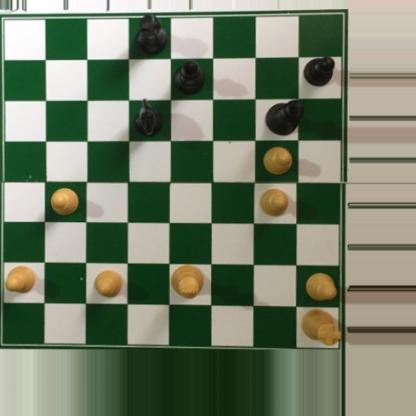black-bishop: (171, 59, 207, 94)
black-king: (264, 98, 306, 137)
black-knight: (133, 95, 164, 140)
black-pawn: (302, 55, 336, 86)
black-rook: (133, 12, 169, 53)
white-king: (169, 265, 205, 299)
white-pawn: (302, 271, 337, 303), (48, 185, 81, 218), (5, 261, 37, 294), (262, 144, 295, 176), (259, 187, 291, 217), (94, 267, 124, 298)
white-rook: (299, 307, 342, 346)
